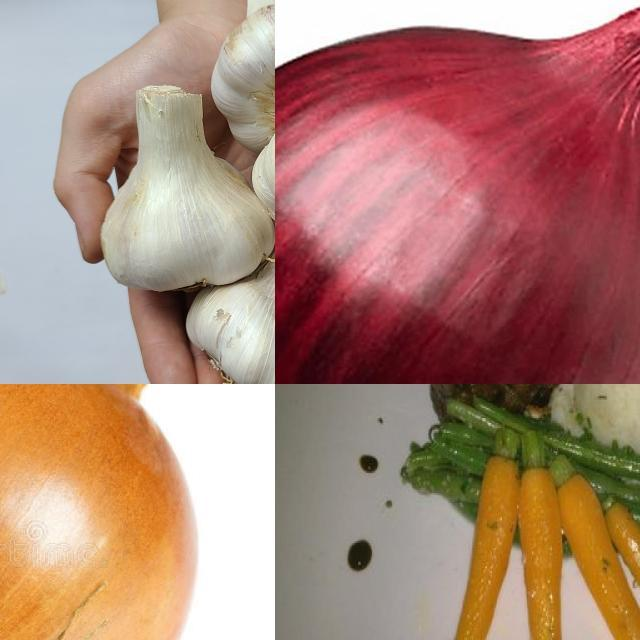carrot: (548, 448, 640, 640), (450, 430, 516, 640), (516, 455, 569, 640)
garlic: (101, 85, 276, 296), (186, 219, 276, 385), (210, 1, 276, 152)
onion: (276, 1, 640, 385), (1, 385, 208, 640)
